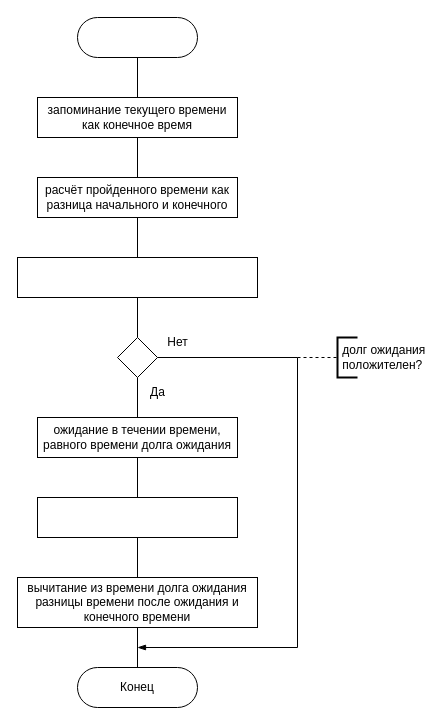
This 443x725 diagram has some shape labels left out. The centre of each missing label's shape, as x and y in pixels:
"запоминание текущего времени как время после ожидания" goes at (x=137, y=517).
"Ожидание" goes at (x=137, y=37).
"прибавление к времени долга ожидания разницу шага и пройденного времени" goes at (x=137, y=277).
